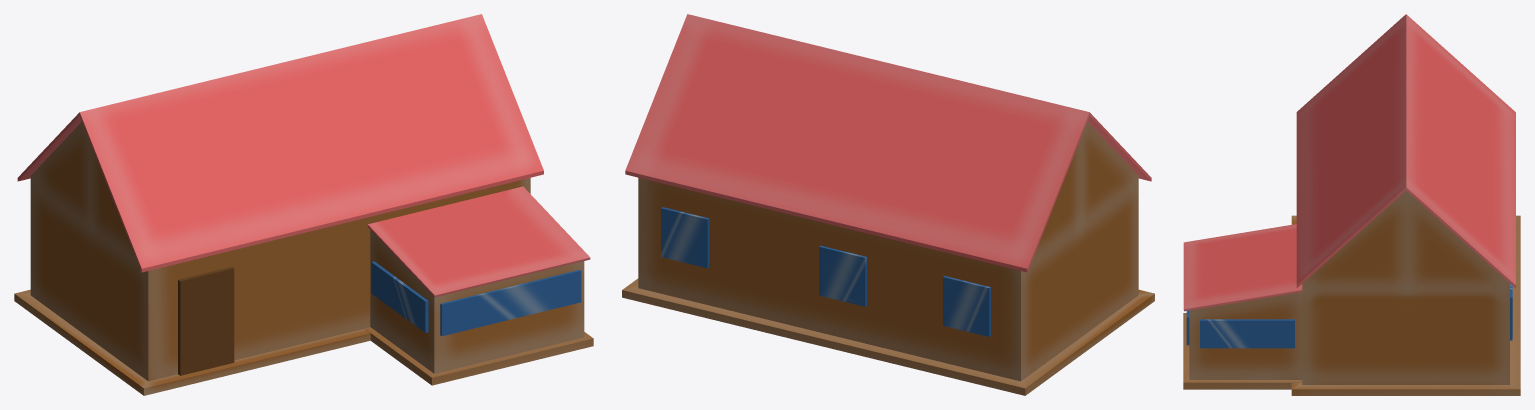
The model's file is Shity ahhhh huis.fbx.
3 renders of one model, left to right at view 1: azimuth 30°, elevation 25°; view 2: azimuth 150°, elevation 25°; view 3: azimuth 270°, elevation 25°, orthographic. The views are drawn at different scales.
Parts seen in each view (by area): view 1: Main house, Lil addition, Wimdows IG; view 2: Main house, Wimdows IG; view 3: Main house, Lil addition, Wimdows IG.
Part boxes in pixels (left/top/right/bottom): Main house: left=14, top=14, right=543, bottom=395; Lil addition: left=364, top=186, right=593, bottom=385; Wimdows IG: left=178, top=261, right=581, bottom=375; Main house: left=622, top=14, right=1154, bottom=395; Wimdows IG: left=661, top=207, right=990, bottom=336; Main house: left=1291, top=14, right=1520, bottom=395; Lil addition: left=1183, top=224, right=1302, bottom=389; Wimdows IG: left=1186, top=284, right=1512, bottom=348.
Bounding box in the file's own units: 460 × 258 × 378.
